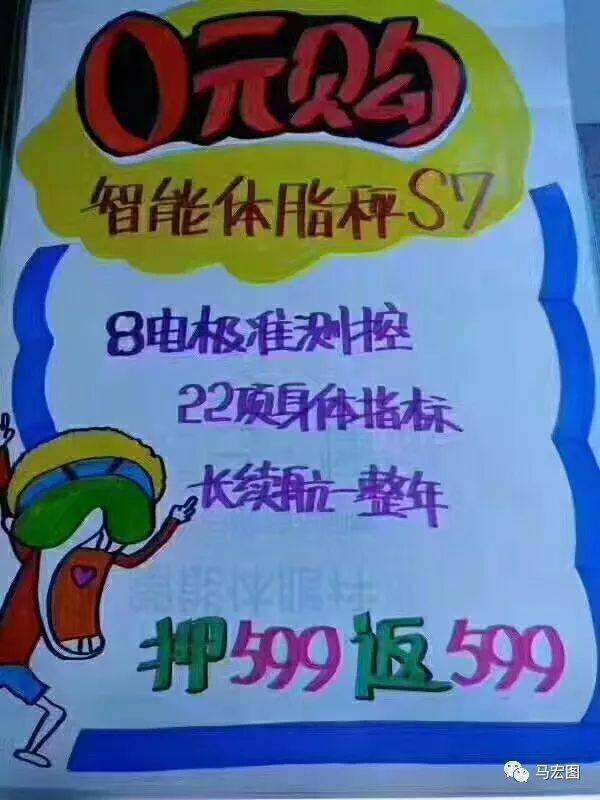bill: (2, 1, 600, 788)
